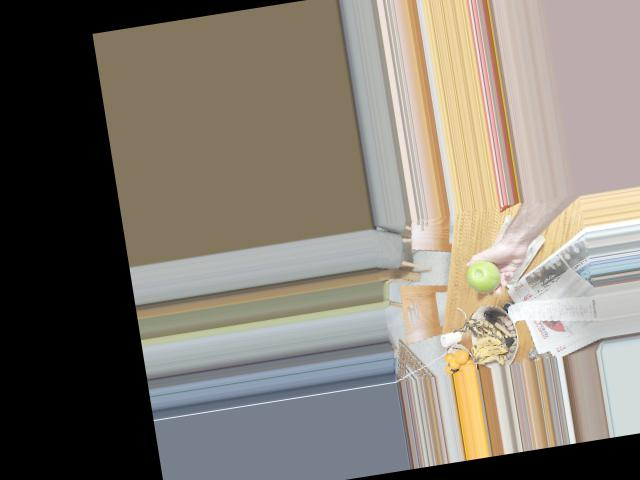apple: (463, 255, 504, 296)
